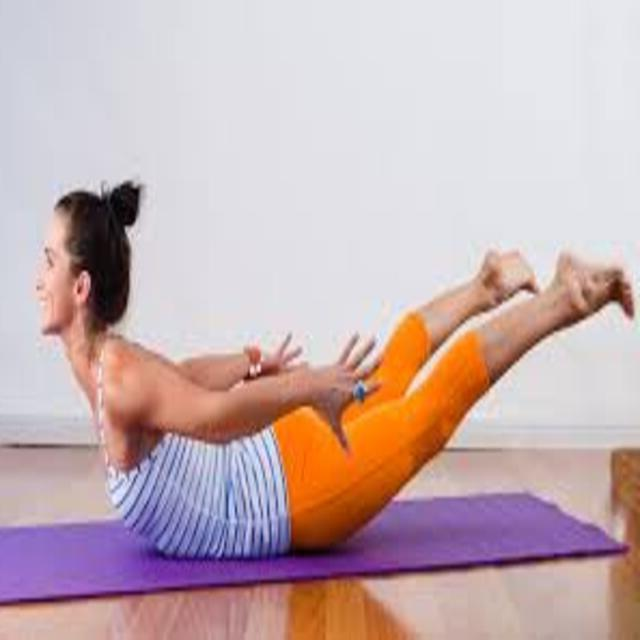Locust_Pose: (35, 177, 640, 557)
